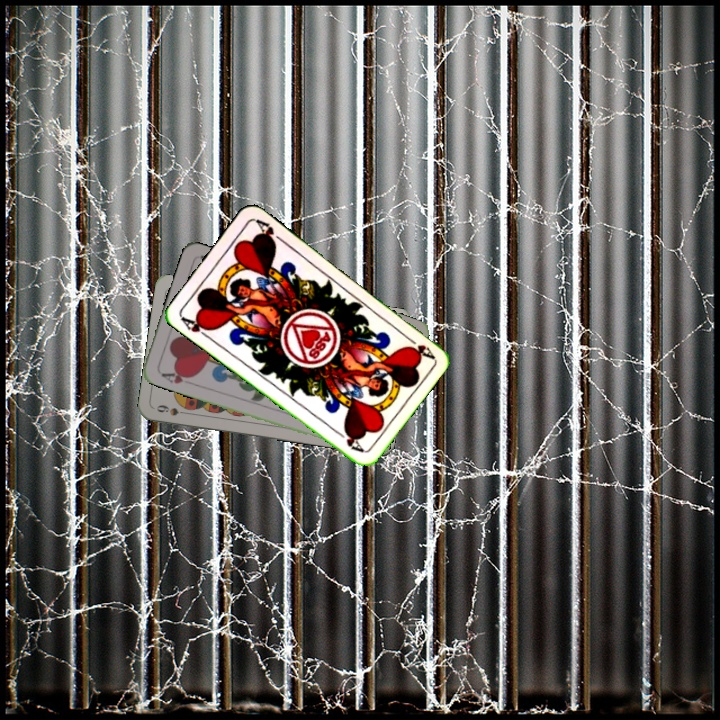HA: (177, 313, 215, 342), (401, 331, 436, 361), (157, 366, 197, 386)
S9: (153, 401, 193, 418)
